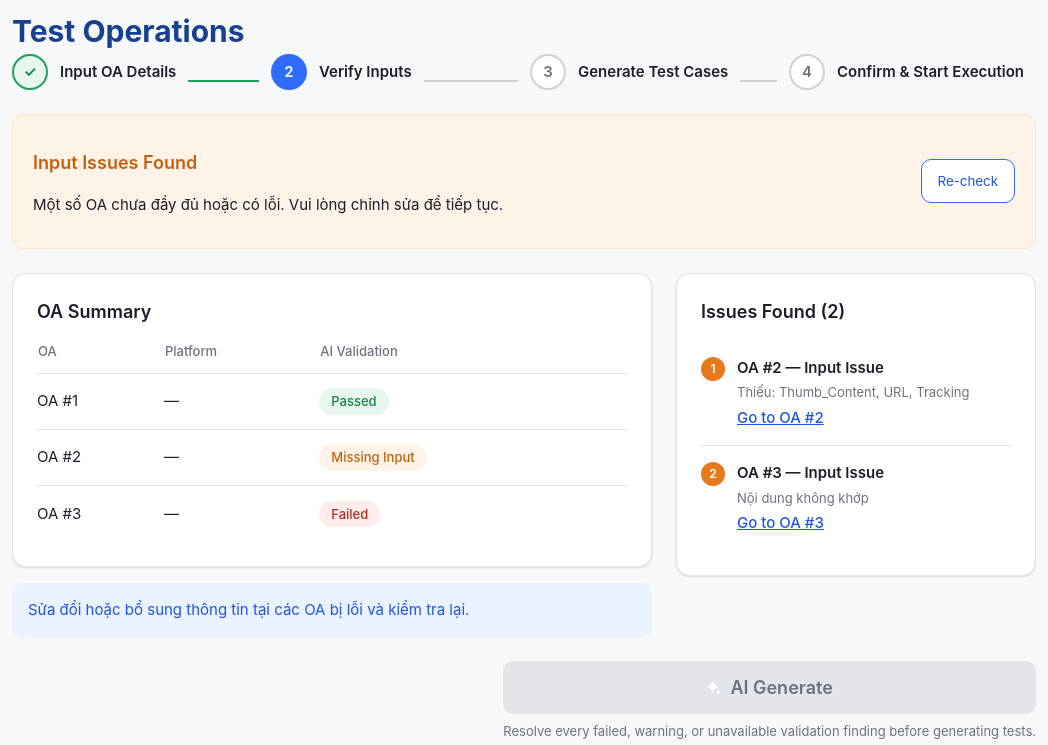
Test: VerifyScreen › surfaces a conflict message and refetches instead of leaving stale results on a stale re-check
What coordinates should you click on to do the following:
click the button "Re-check"
I would click on:
 (968, 181)
Its box is [920,159,1015,203].
(page scrolled)
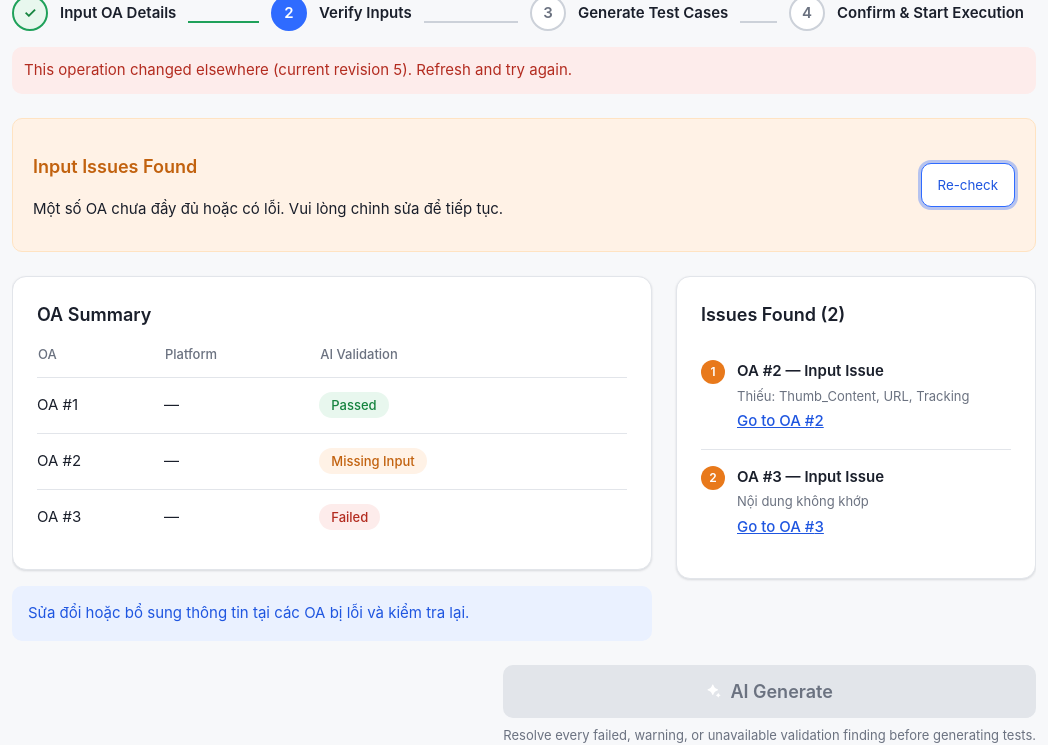
Expected: the button "AI Generate" is disabled, [503,664,1036,718]
Now the text "This operation changed elsewhere (current revision 5). Refresh and try again." is shown, box [12,47,1036,94]
